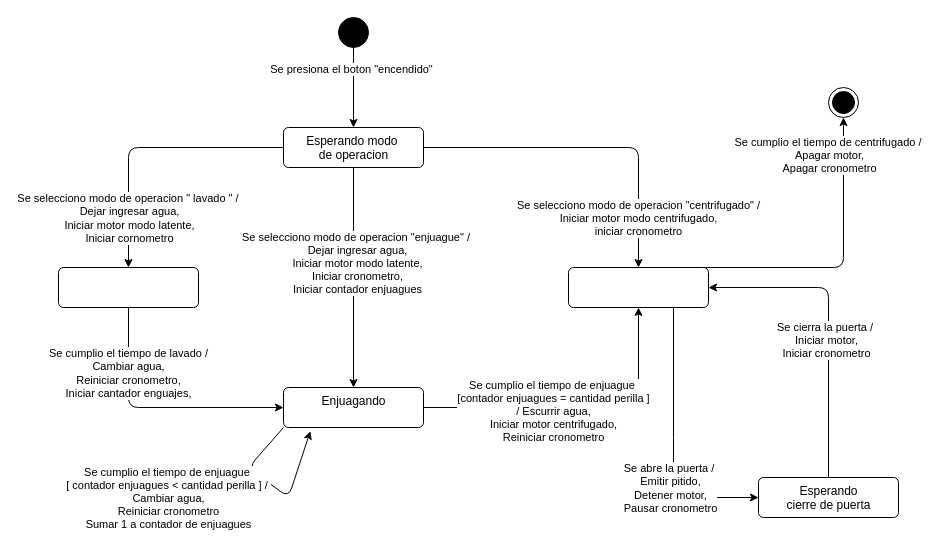
The diagram is 941 pixels wide and 549 high, and some of its shapes have lost their labels. Here are the shapes that lost their labels. From the top down, the centre of each, then its label:
At (128,287): "Lavando".
At (638,287): "Centrifugando".
